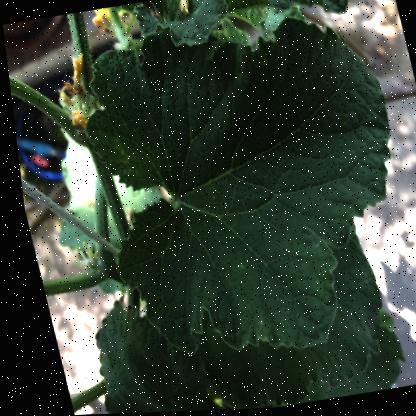Normal: (56, 0, 415, 380)
